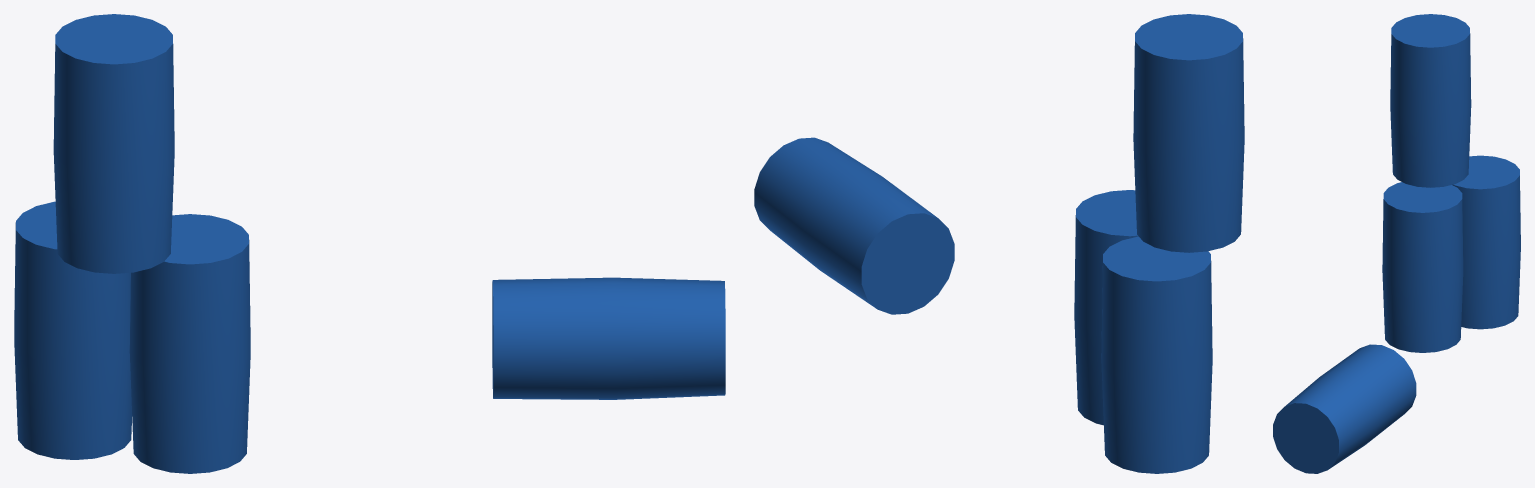
File: barrel coll.FBX
3 renders of one model, left to right at view 1: azimuth 30°, elevation 25°; view 2: azimuth 150°, elevation 25°; view 3: azimuth 270°, elevation 25°, orthographic. The views are drawn at different scales.
Parts seen in each view (by area): view 1: barrel coll; view 2: barrel coll; view 3: barrel coll.
Part boxes in pixels (x1,y1,x2,y2): barrel coll: (14, 14, 725, 473); barrel coll: (754, 14, 1244, 473); barrel coll: (1273, 14, 1520, 473).
Size of the model in its own units: 337 by 228 by 181.
Materials: 1 (1 with a texture image).
